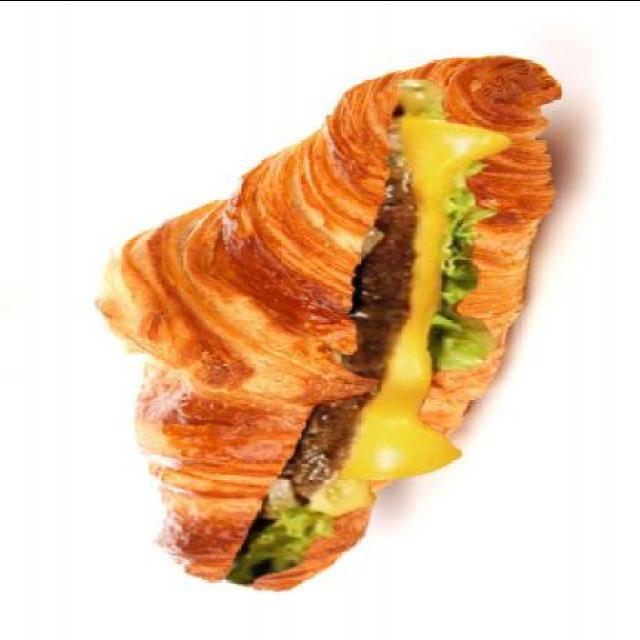Croissant: (94, 58, 566, 590)
